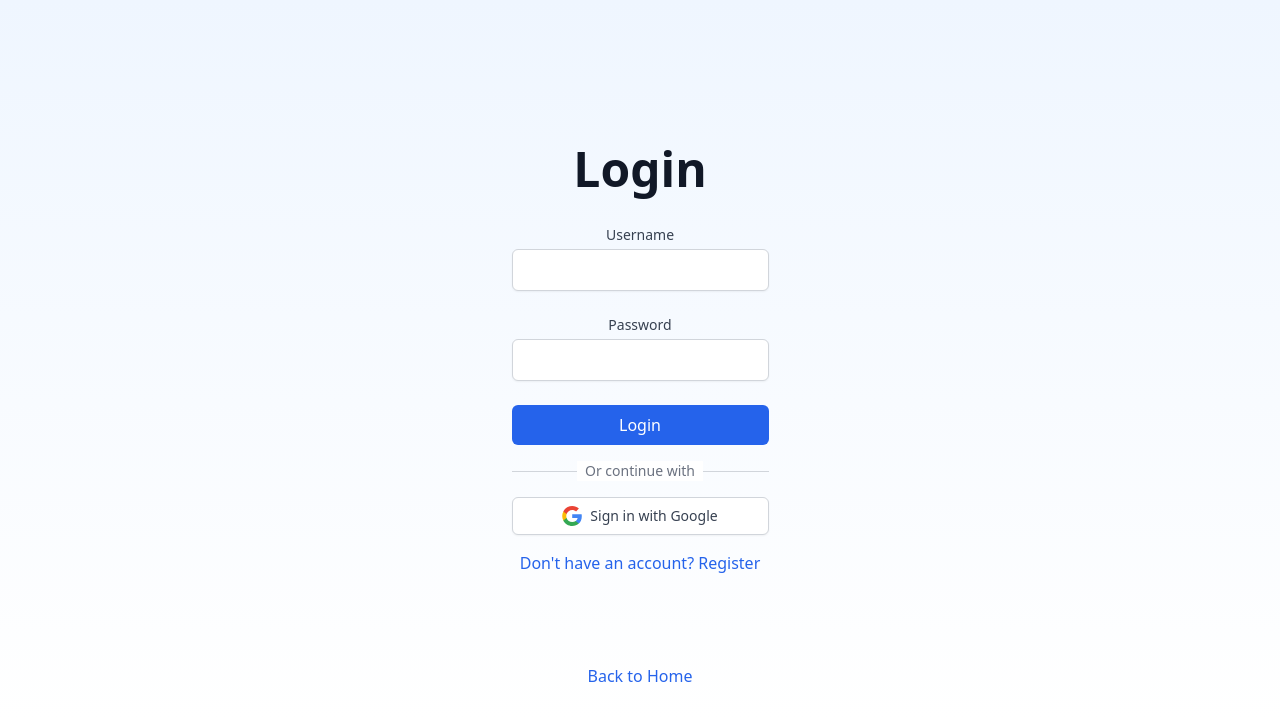
Scenario: Login Page › shows error message on invalid login attempt
In the field named "username": (641, 270) [512,249,769,291], type "invaliduser"
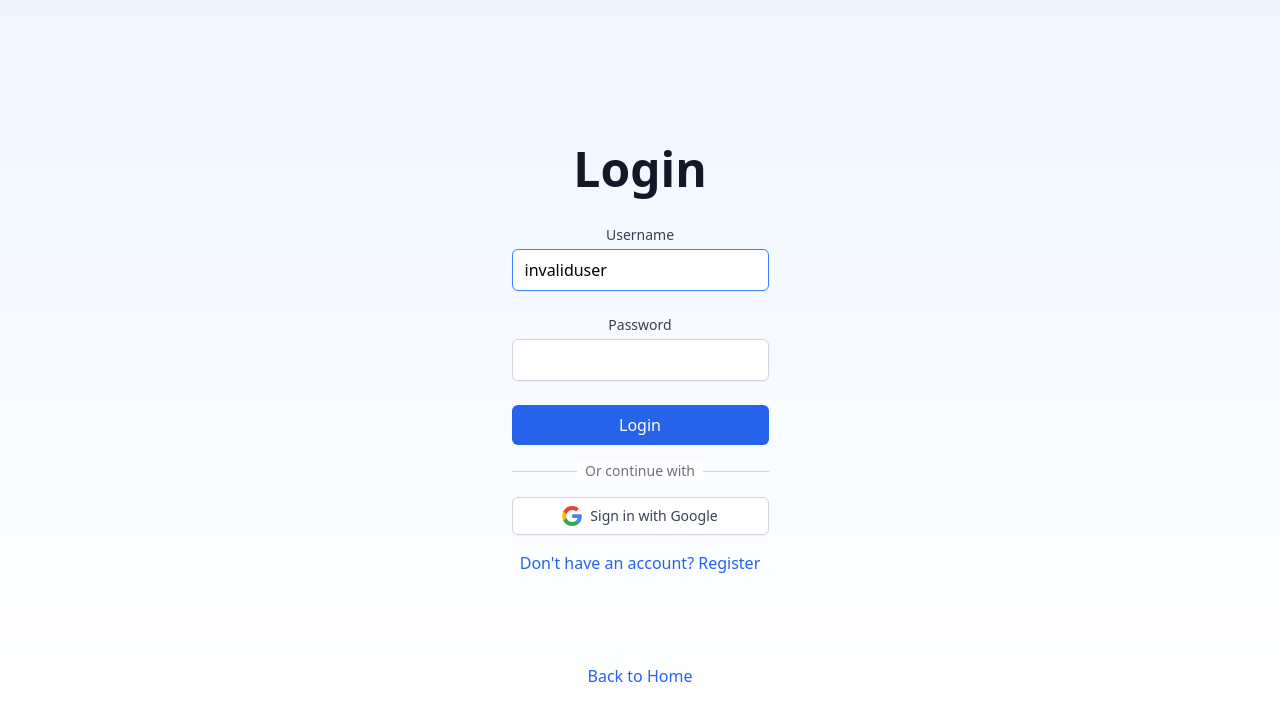
In the password field named "password": (641, 360) [512,339,769,381], type "wrongpassword"
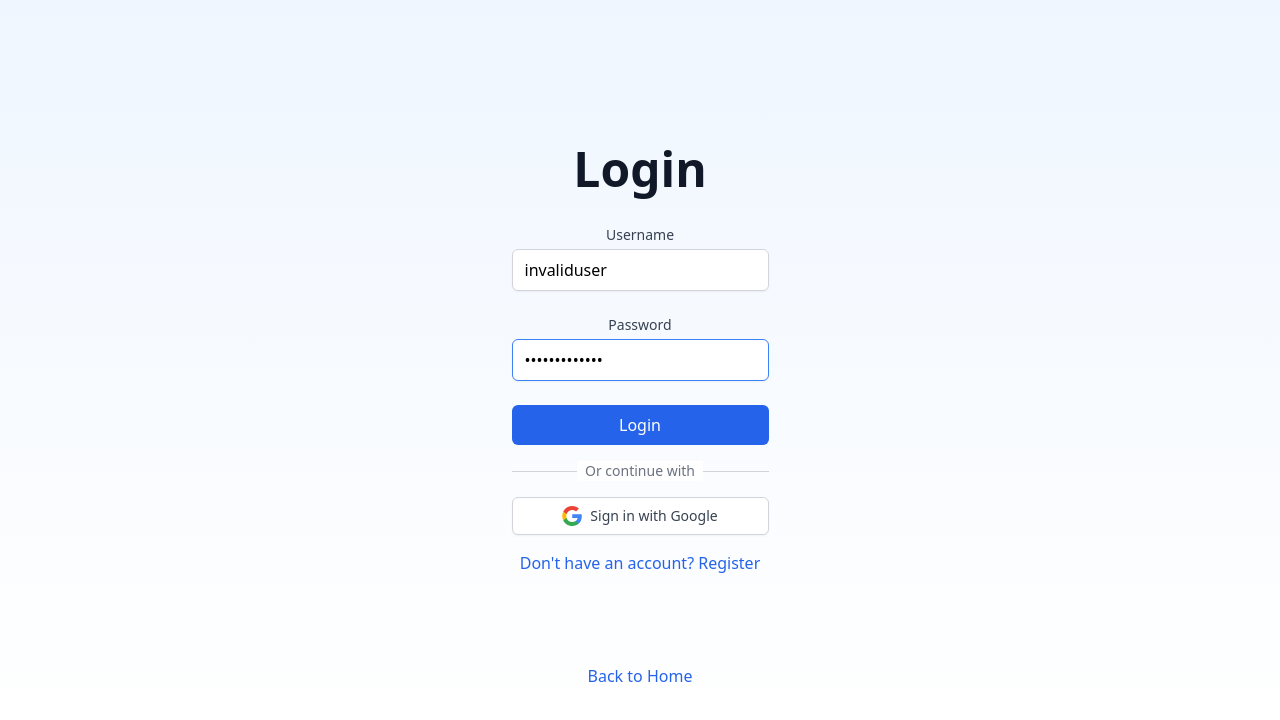
Click the submit button: (641, 425) [512,405,769,445]
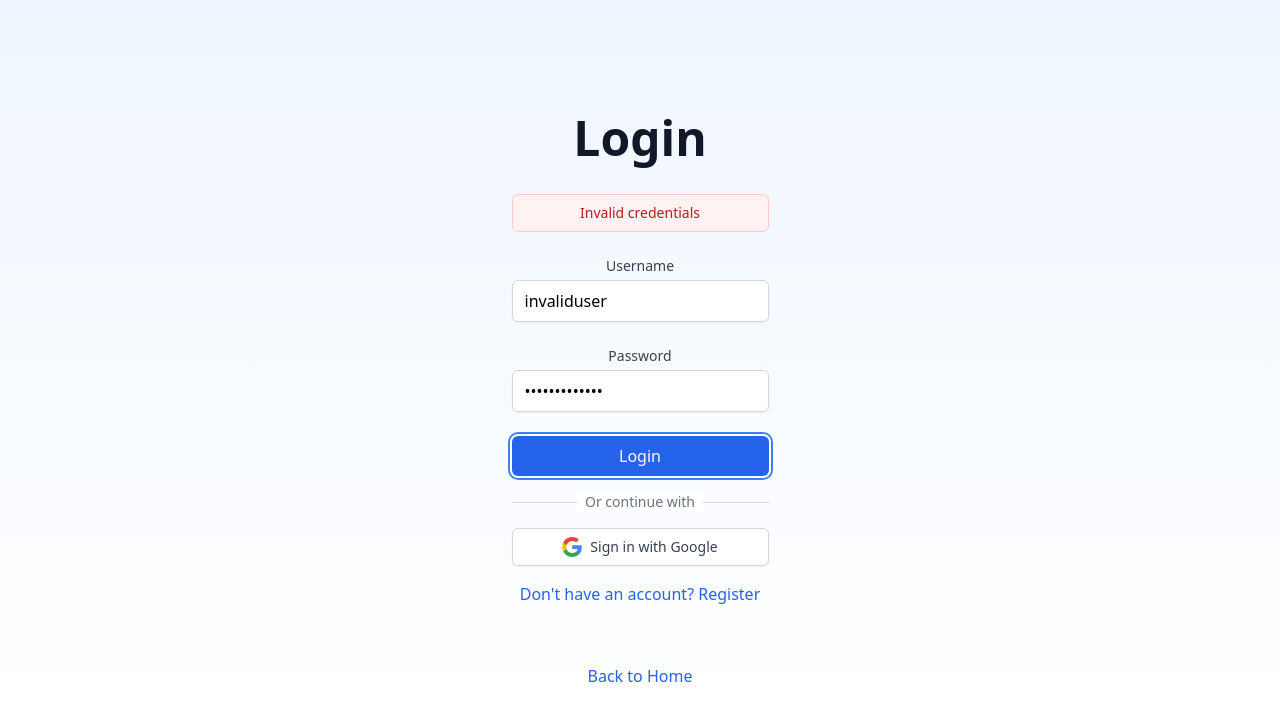
Expected: the message "Invalid credentials" is shown, [512,194,768,232]
